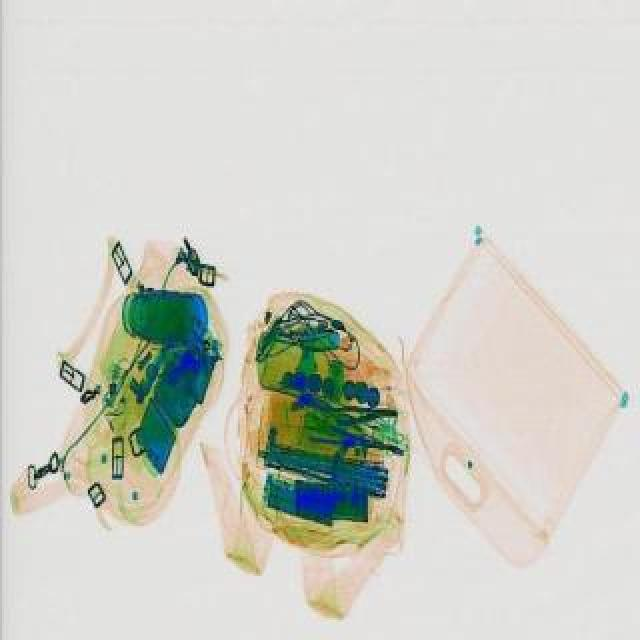wrench: (332, 400, 396, 424)
